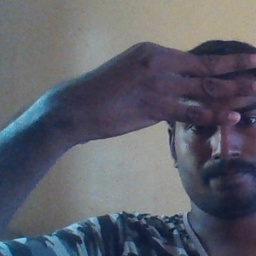K: (75, 40, 256, 135)
